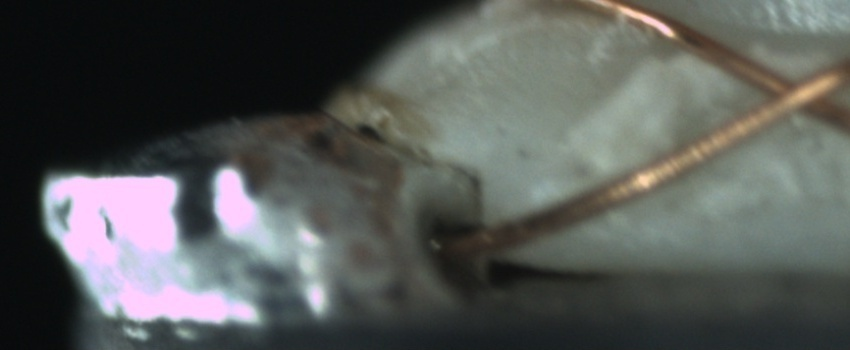CL: (744, 54, 841, 128)
